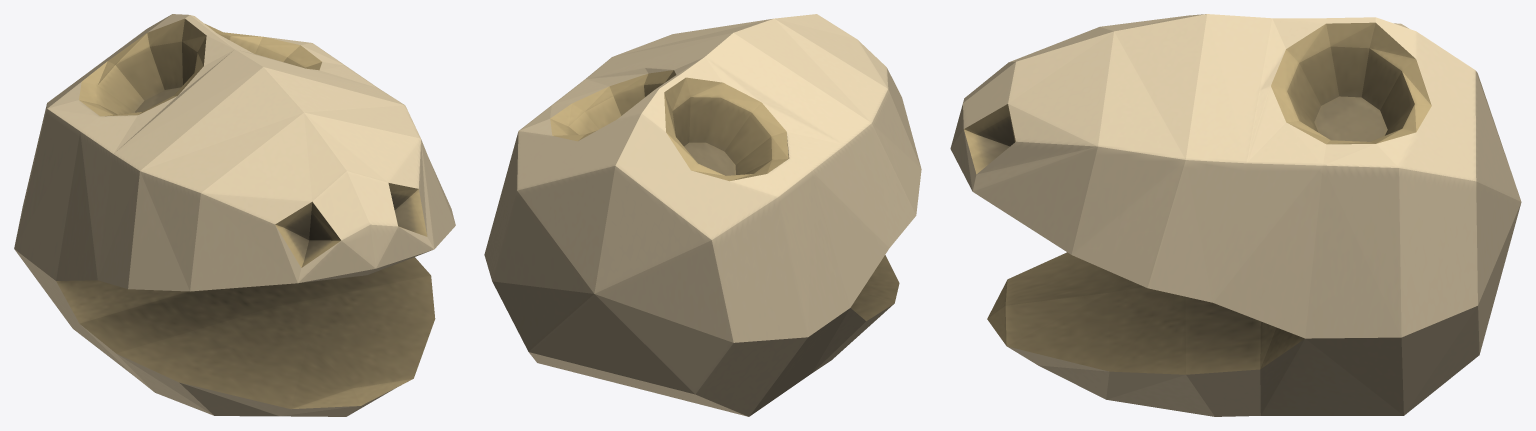
File: Squelette_Tete.FBX
3 views of the same model, side by side, from view 1: azimuth 30°, elevation 25°; view 2: azimuth 150°, elevation 25°; view 3: azimuth 270°, elevation 25° (orthographic). The views are drawn at different scales.
Parts seen in each view (by area): view 1: SnakeSquelette_Tete; view 2: SnakeSquelette_Tete; view 3: SnakeSquelette_Tete.
Boxes of the visible parts, x1=… form: SnakeSquelette_Tete: x1=14, y1=14, x2=455, y2=416; SnakeSquelette_Tete: x1=484, y1=14, x2=921, y2=416; SnakeSquelette_Tete: x1=950, y1=14, x2=1521, y2=416.
Size of the model in its own units: 0.67 by 0.5933 by 0.8839.
